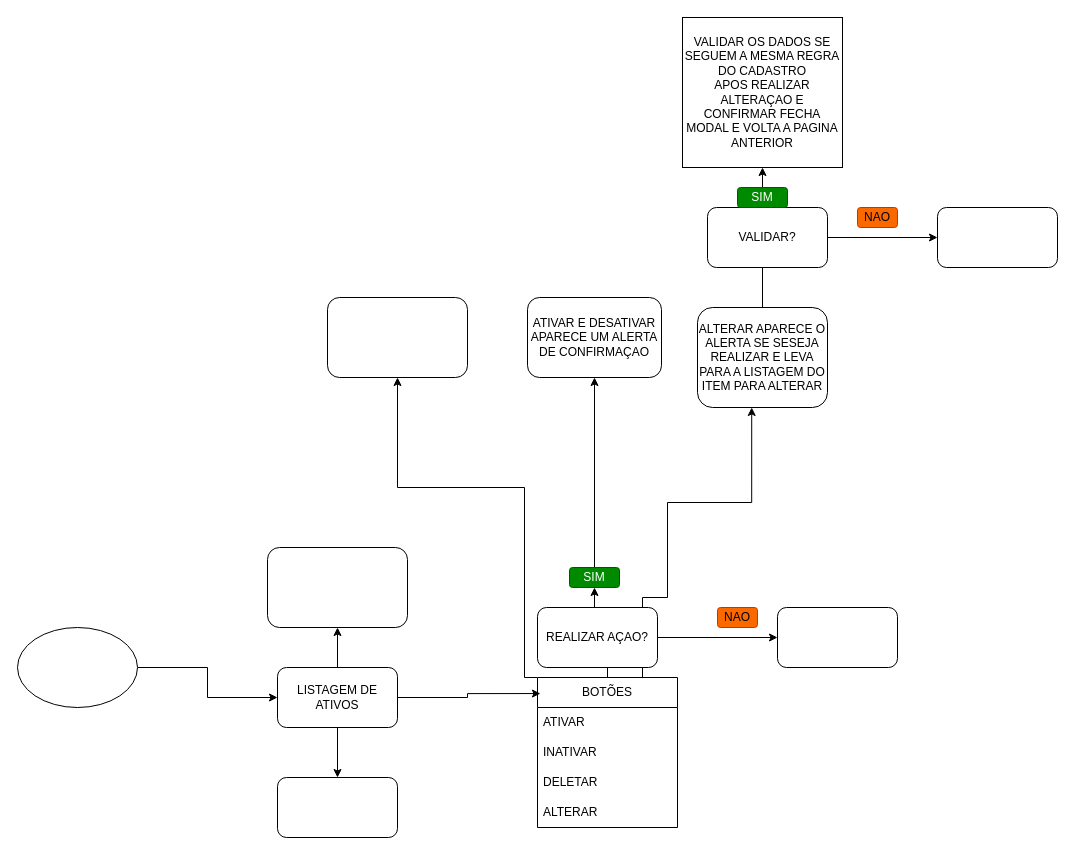
This 1075x855 diagram has some shape labels left out. Each missing label, with the centre of its shape:
BOTAO QUE ABRE UM MODAL PRA REGISTRAR MOVIMENTAÇAO: the point at 337,587
DELETAR APARECE A CONFIRMAÇAO E APOS DELETAR VOLTA A PAGINA ANTERIOR: the point at 397,337
FECHA MODAL: the point at 837,637
INICIO: the point at 77,667
PESQUISA DE ATIVOS: the point at 337,807
VOLTA A PAGINA DO MODAL PARA CONFERIR OS DADOS: the point at 997,237
